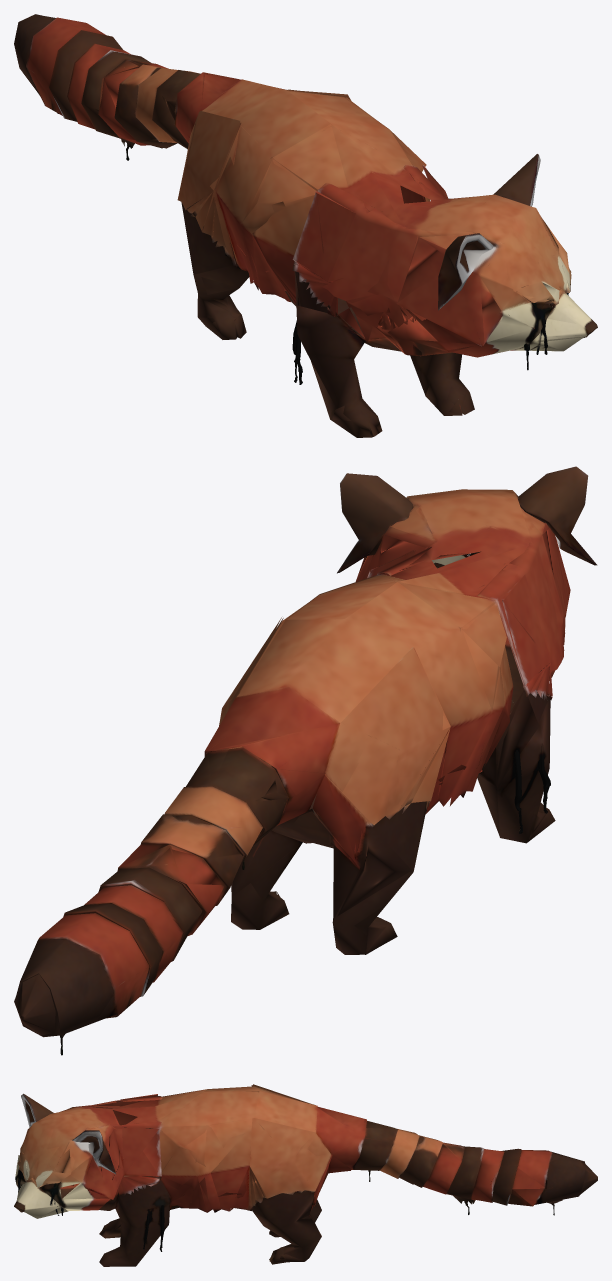
File: redpanda.glb
3 views of the same model, one above another, from view 1: azimuth 30°, elevation 25°; view 2: azimuth 150°, elevation 25°; view 3: azimuth 270°, elevation 25° (orthographic). The views are drawn at different scales.
Visible parts, largest first — view 1: geometry_0; view 2: geometry_0; view 3: geometry_0.
Part boxes in pixels (left/top/right/bottom): geometry_0: left=14, top=14, right=597, bottom=437; geometry_0: left=14, top=466, right=597, bottom=1055; geometry_0: left=14, top=1084, right=597, bottom=1266.
Size of the model in its own units: 0.2539 by 0.2788 by 0.9487.
1 material, 1 textured.
